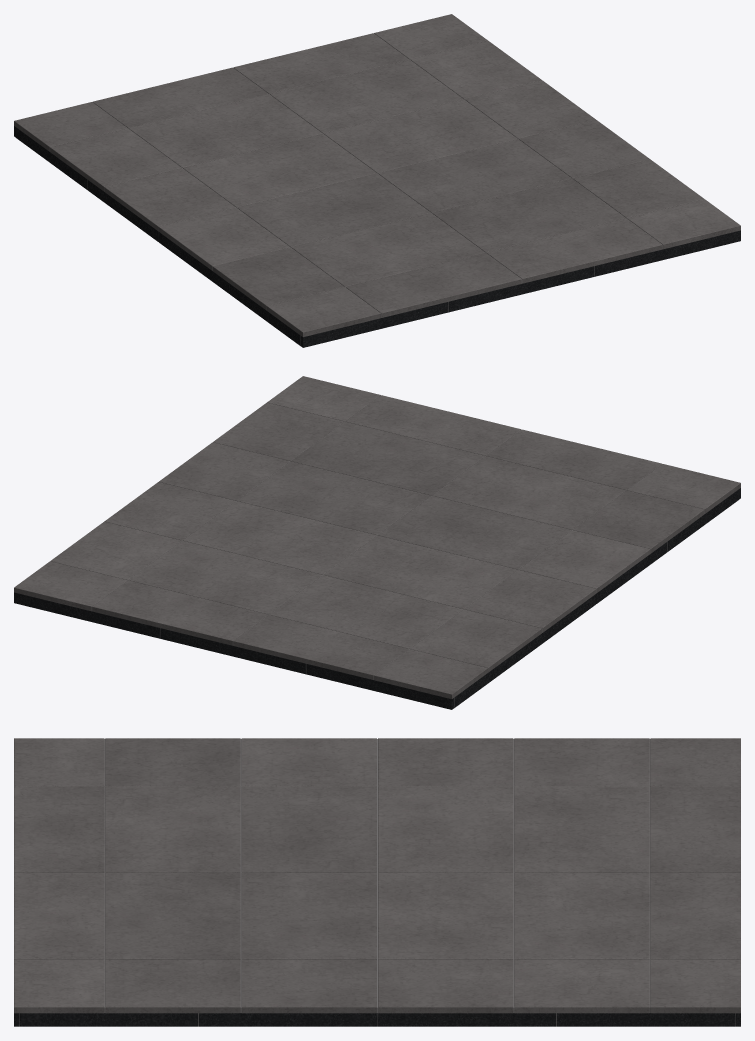
File: floor-graphite-wide.glb
3 views of the same model, one above another, from view 1: azimuth 30°, elevation 25°; view 2: azimuth 150°, elevation 25°; view 3: azimuth 270°, elevation 25° (orthographic). The views are drawn at different scales.
Visible parts, largest first — view 1: Stone_field_graphite, Stone_edge_graphite; view 2: Stone_field_graphite, Stone_edge_graphite; view 3: Stone_field_graphite, Stone_edge_graphite, Joint_and_bedding_graphite.
Boxes of the visible parts, x1=… form: Stone_field_graphite: x1=14, y1=14, x2=740, y2=336; Stone_edge_graphite: x1=14, y1=126, x2=740, y2=347; Stone_field_graphite: x1=14, y1=376, x2=740, y2=698; Stone_edge_graphite: x1=14, y1=488, x2=740, y2=709; Stone_field_graphite: x1=14, y1=738, x2=740, y2=1013; Stone_edge_graphite: x1=14, y1=1013, x2=740, y2=1026; Joint_and_bedding_graphite: x1=19, y1=739, x2=735, y2=1026.
Size of the model in its own units: 2.8 by 0.096 by 3.2.
3 materials, 2 textured.
